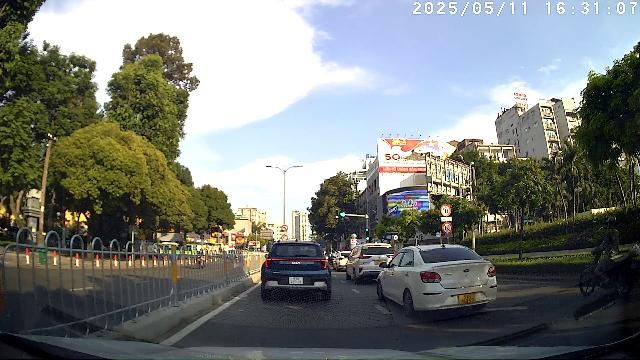103b-cam-oto-re-phai: (442, 222, 452, 234)
